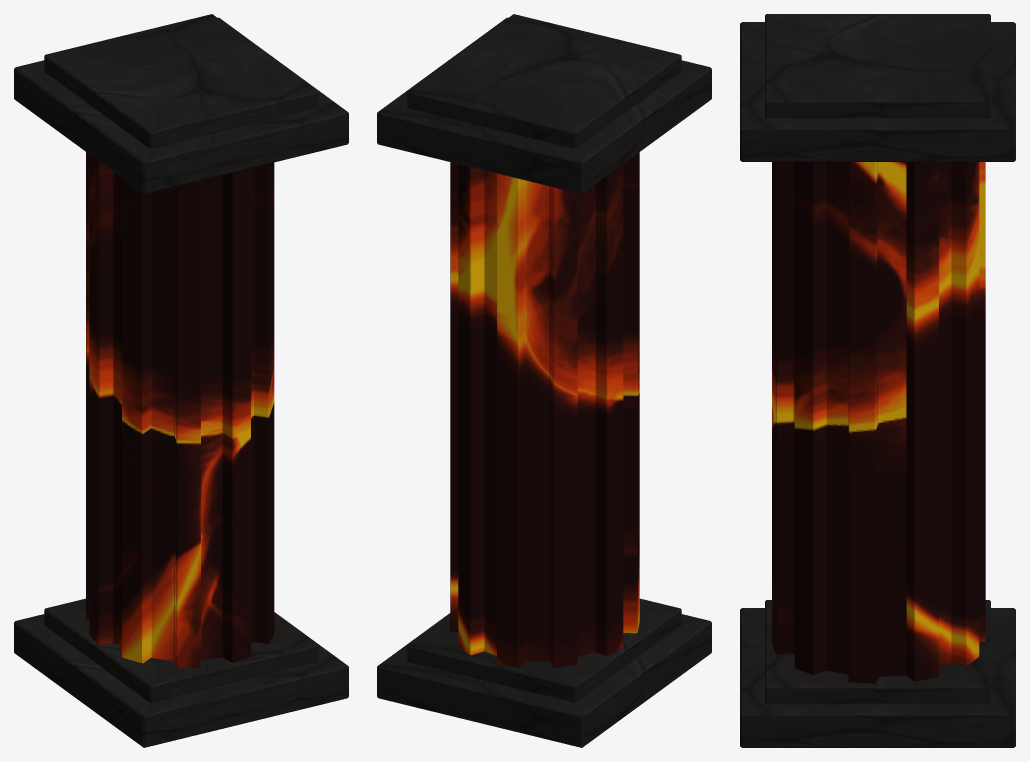
Rendered from LavaPillar.fbx.
3 renders of one model, left to right at view 1: azimuth 30°, elevation 25°; view 2: azimuth 150°, elevation 25°; view 3: azimuth 270°, elevation 25°, orthographic. The views are drawn at different scales.
Parts seen in each view (by area): view 1: polySurface51; view 2: polySurface51; view 3: polySurface51.
Boxes of the visible parts, x1,y1,x2,y2 form: polySurface51: (14, 14, 348, 747); polySurface51: (377, 14, 711, 747); polySurface51: (740, 14, 1015, 747).
Bounding box in the file's own units: 14.21 × 39.66 × 15.53.
2 materials, 2 textured.
